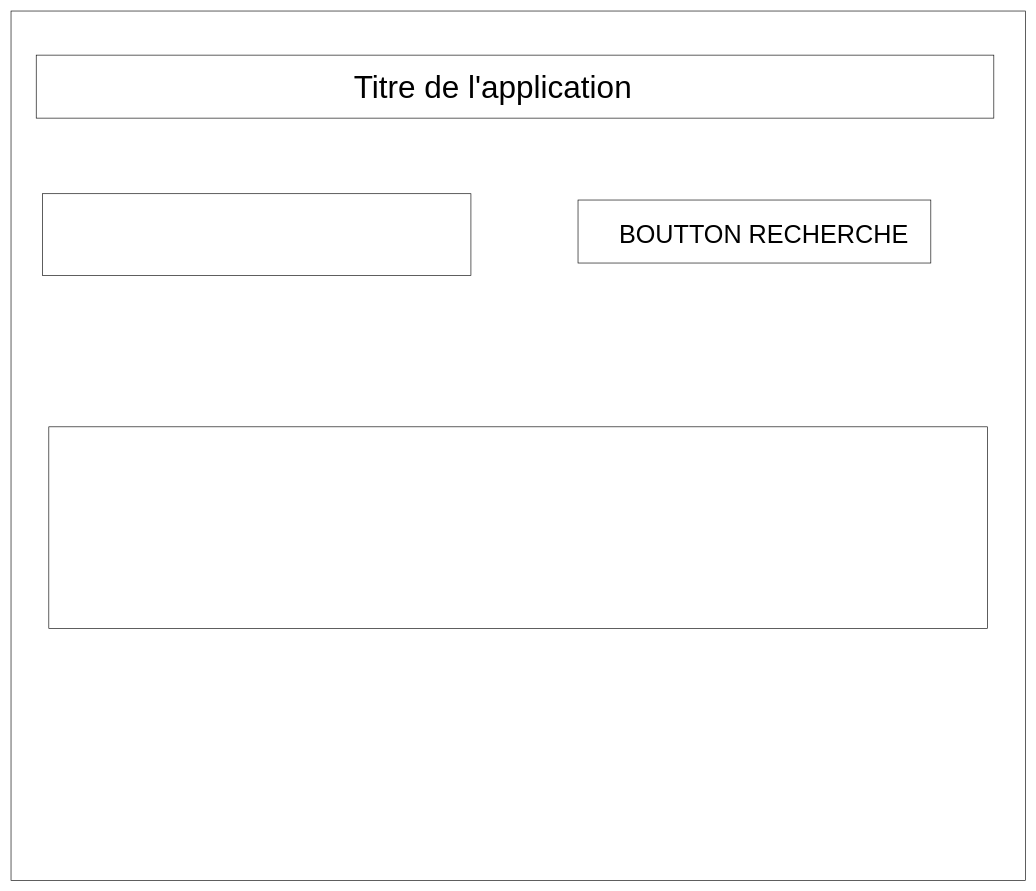
Image size: 1036x891. Some labels were removed from this diagram. The shapes that lost their labels are listed below. From the top down, each one's centre as x and y in pixels, then its label:
At (x=256, y=234): "barre de recherche".
At (x=518, y=527): "RESULTAT DE LA RECHERCHE".
